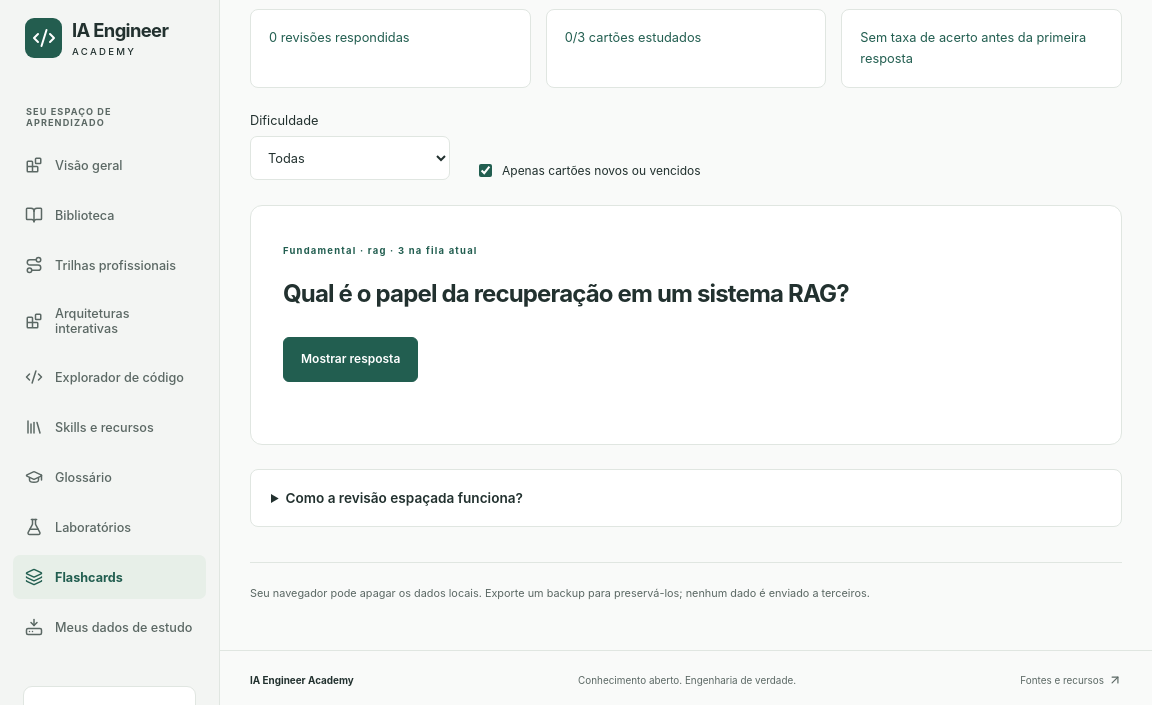
Test: estudo guiado e revisão editorial › mostra verso e registra uma resposta real em vez de inventar estatísticas
(page scrolled)
Expected: the text "0 revisões respondidas" is shown, [250,9,531,88]
Click the button "Mostrar resposta" at (351, 360), box [283,338,418,382]
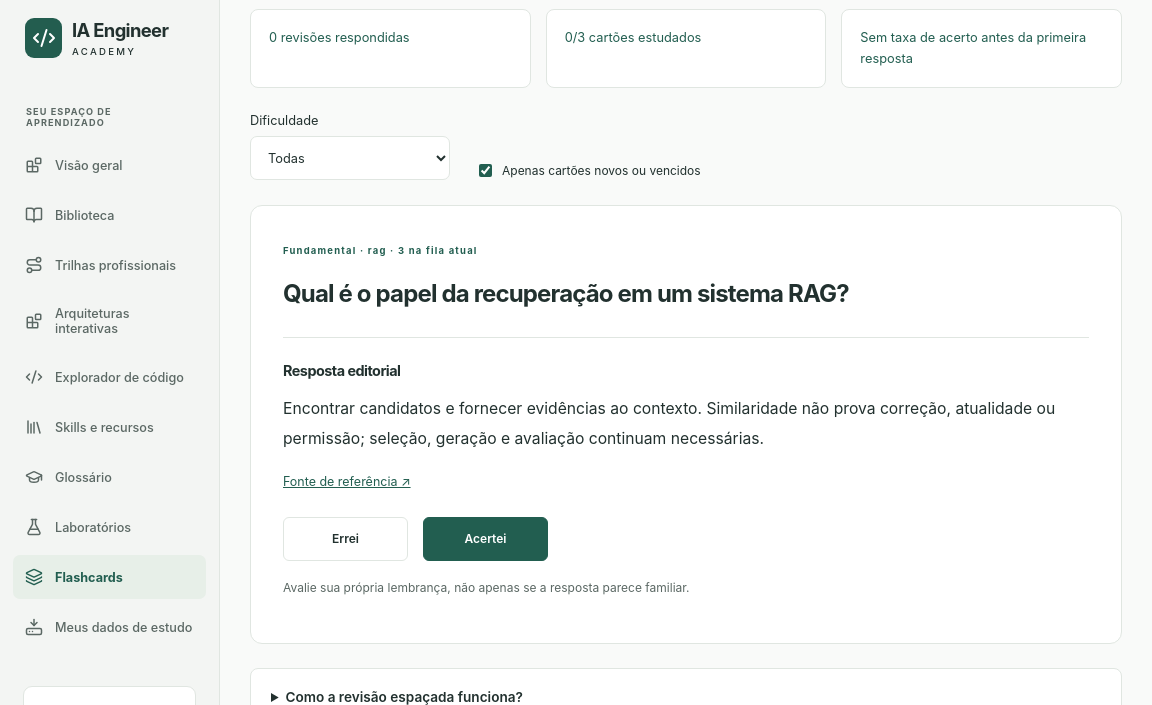
Click the button "Acertei" at (486, 539), box [423,517,548,562]
(page scrolled)
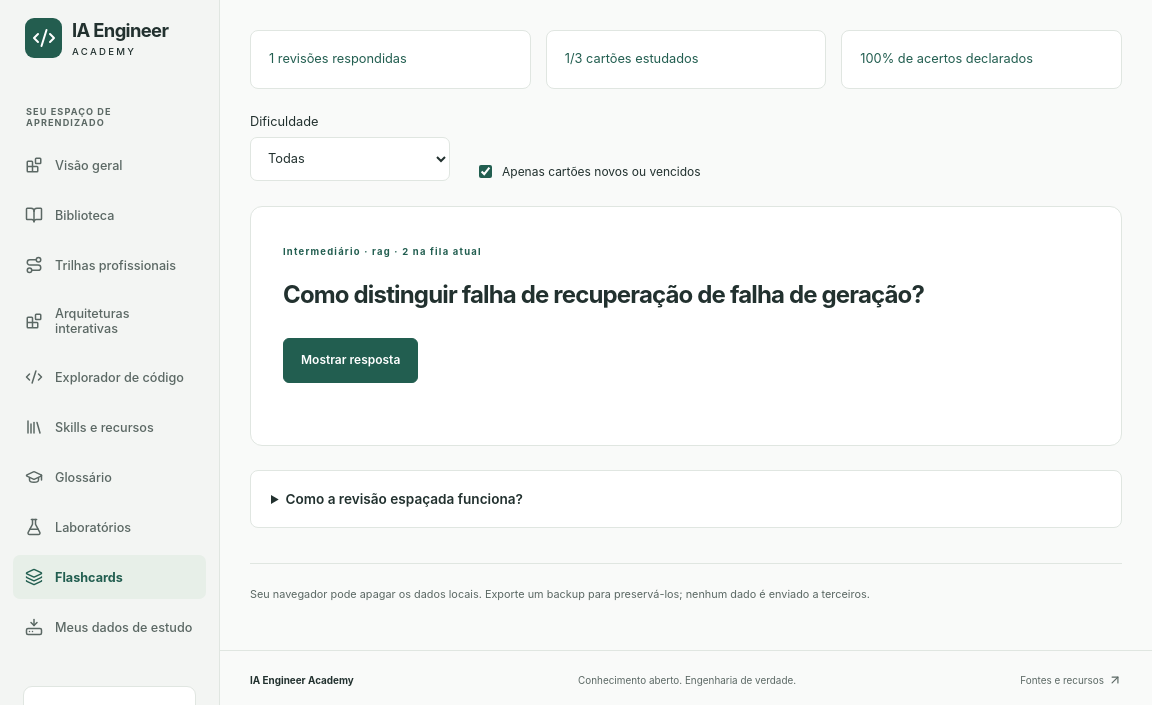
Expected: the text "1 revisões respondidas" is shown, [250,30,531,89]
